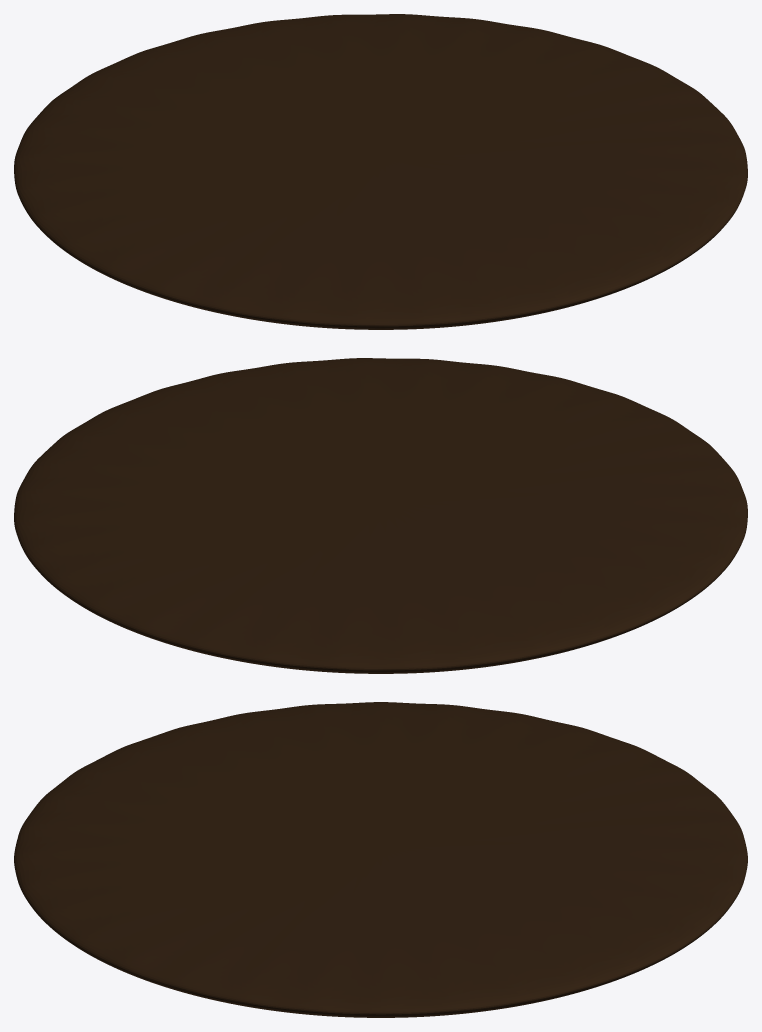
File: BigHead.fbx
The picture shows the model from 3 angles, top to bottom: view 1: azimuth 30°, elevation 25°; view 2: azimuth 150°, elevation 25°; view 3: azimuth 270°, elevation 25°; orthographic projection.
Parts seen in each view (by area): view 1: BigStem; view 2: BigStem; view 3: BigStem.
Part boxes in pixels (box(x1,y1,x2,y2)): BigStem: box(14, 14, 747, 329); BigStem: box(14, 358, 747, 673); BigStem: box(14, 702, 747, 1017).
Size of the model in its own units: 1342 by 256 by 1342.
